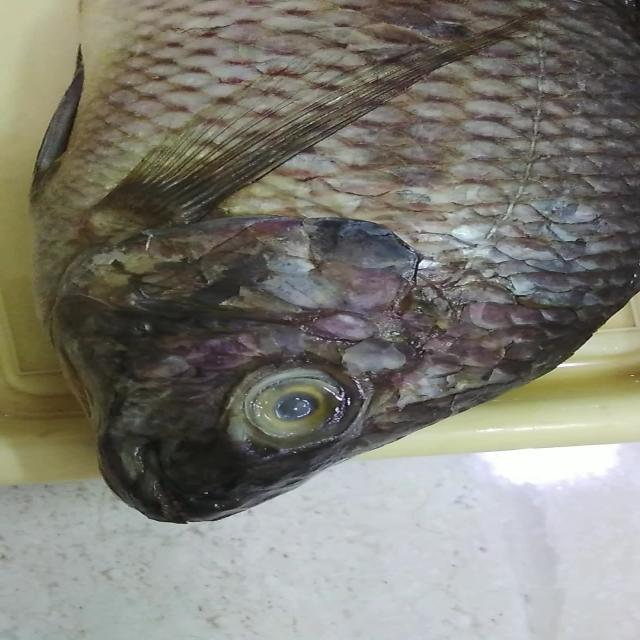Non-Fresh: (75, 74, 601, 346), (226, 359, 370, 457)
